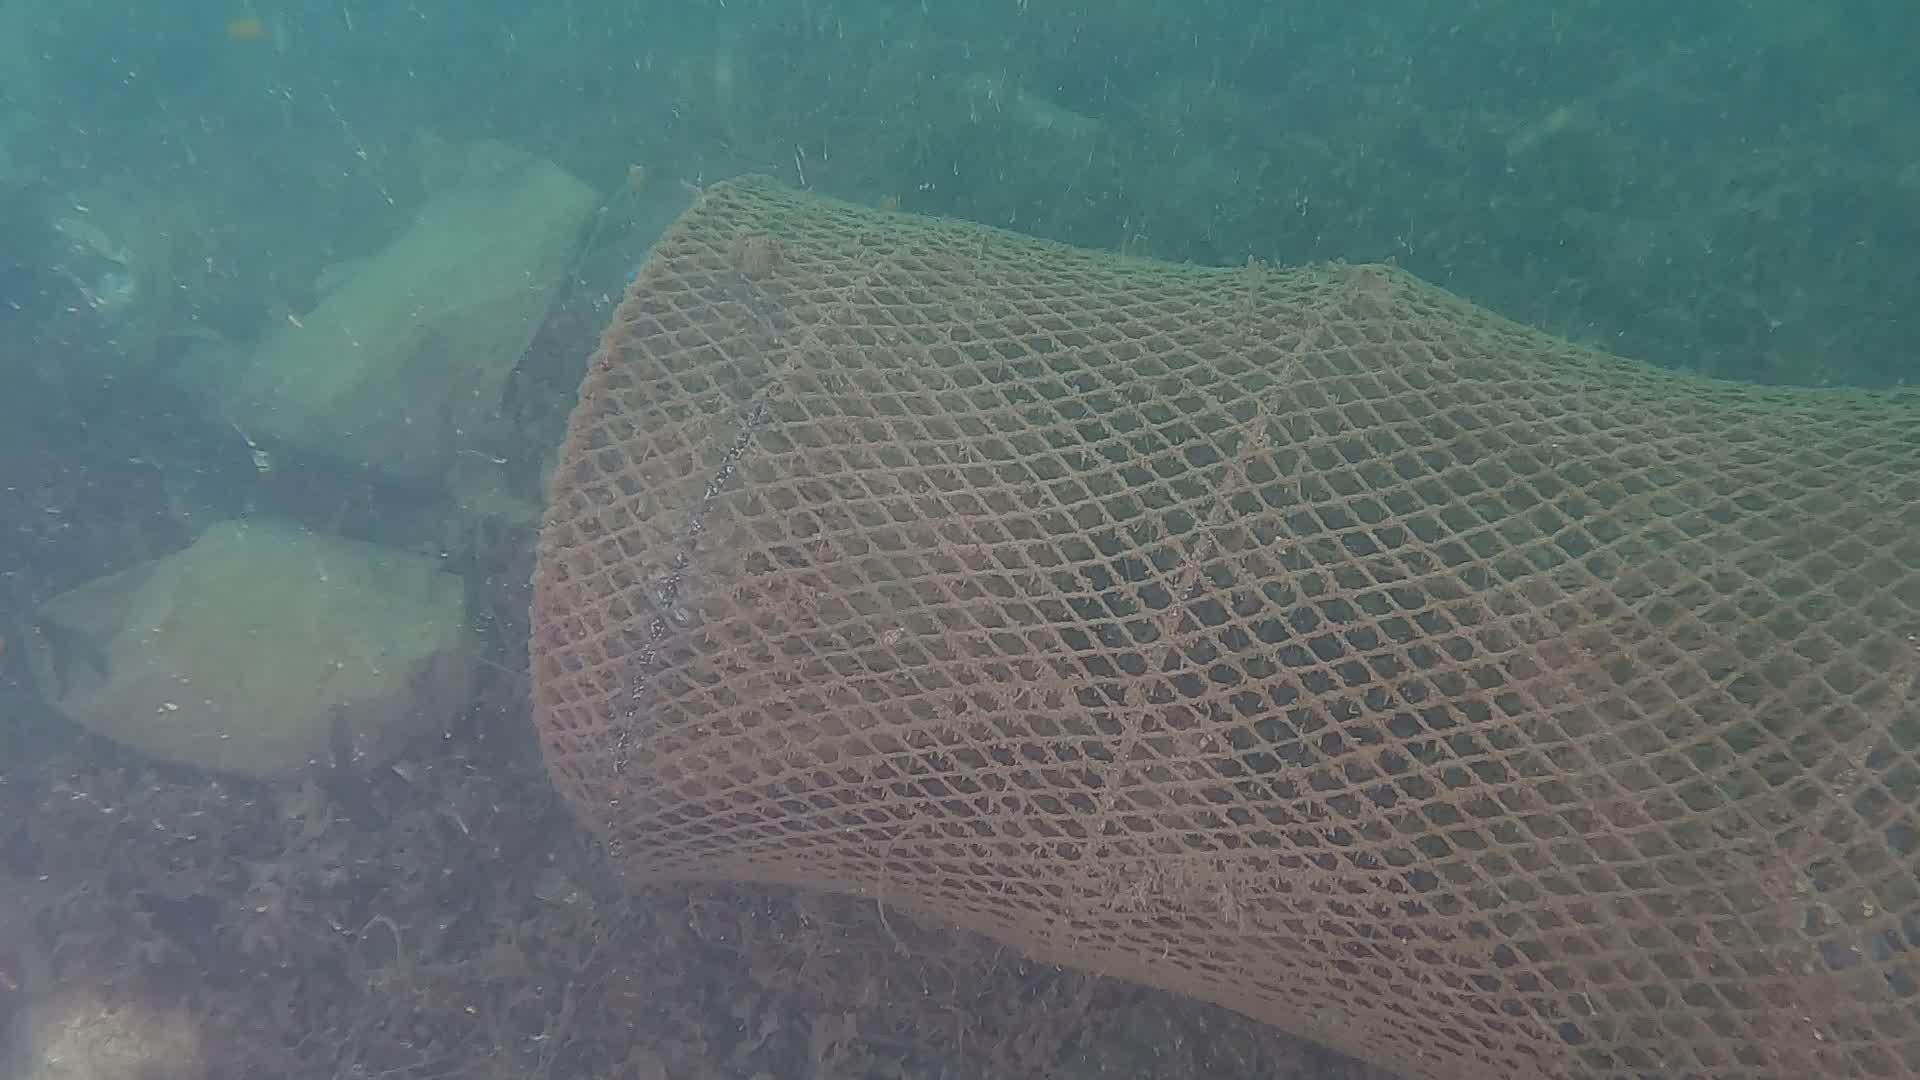spring fish trap: (518, 173, 1920, 1080)
